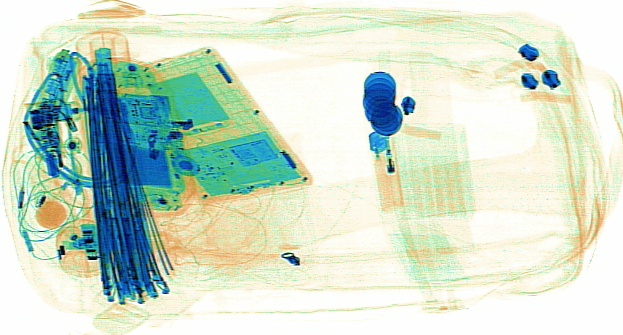lighter: (366, 130, 405, 214)
